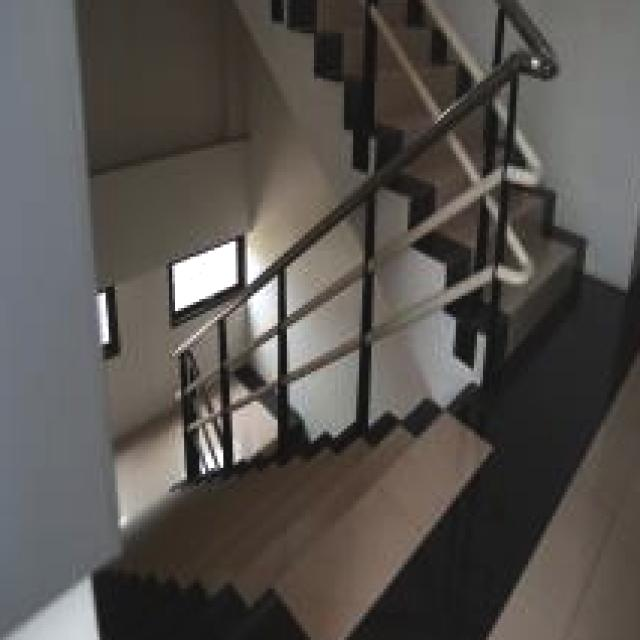downstair: (112, 408, 577, 640)
